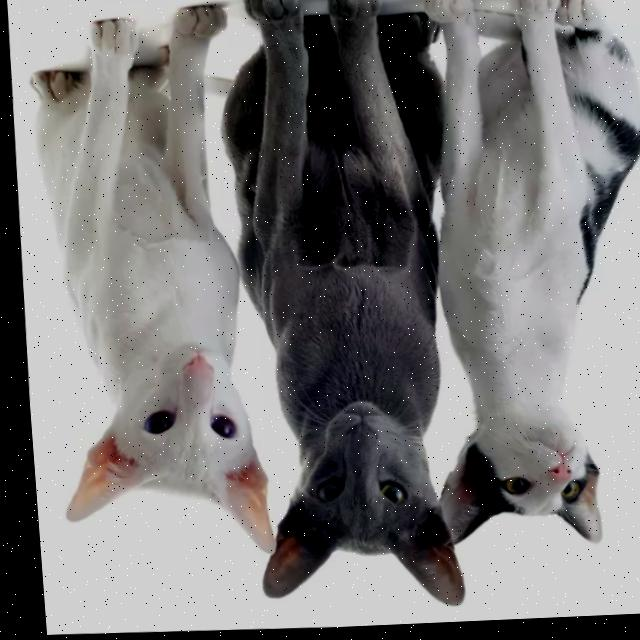Oriental: (196, 0, 477, 621), (7, 0, 260, 566), (396, 0, 640, 559)
